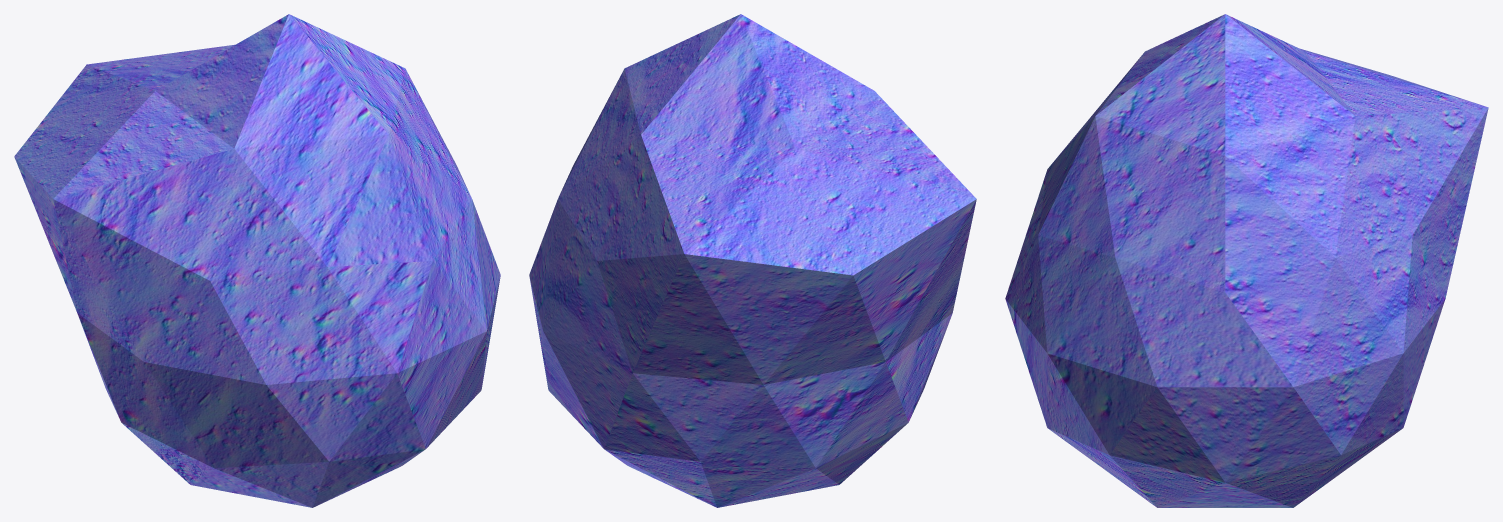
File: bigasteroid4_LOD4.fbx
3 views of the same model, side by side, from view 1: azimuth 30°, elevation 25°; view 2: azimuth 150°, elevation 25°; view 3: azimuth 270°, elevation 25° (orthographic).
Parts seen in each view (by area): view 1: Icosphere; view 2: Icosphere; view 3: Icosphere.
Part boxes in pixels (bbox=[...]): Icosphere: bbox=[14, 14, 500, 507]; Icosphere: bbox=[529, 14, 976, 507]; Icosphere: bbox=[1005, 14, 1488, 507].
Size of the model in its own units: 221 by 243 by 220.
